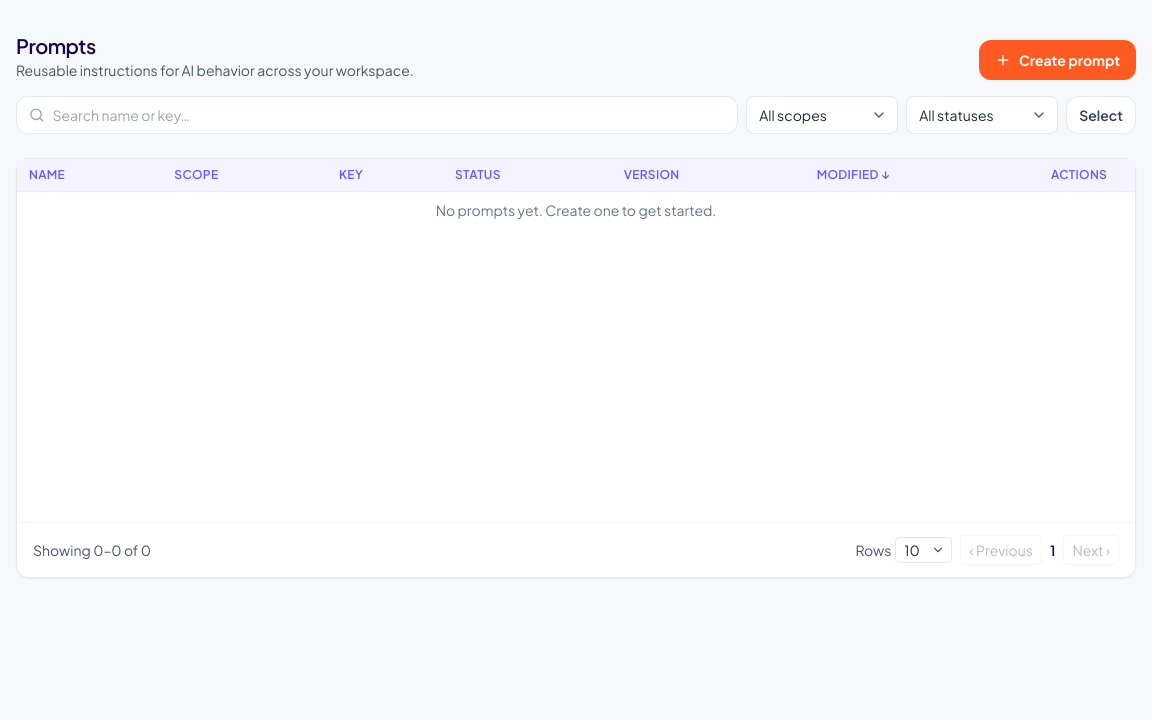
Test: Prompts table-first UX › opens editor drawer on Create prompt
The width and height of the screenshot is (1152, 720).
Check: the text "No prompts yet. Create one to get started." is shown, box [17,192,1135,228]
Click the button "Create prompt": (1057, 60) [979,40,1136,80]
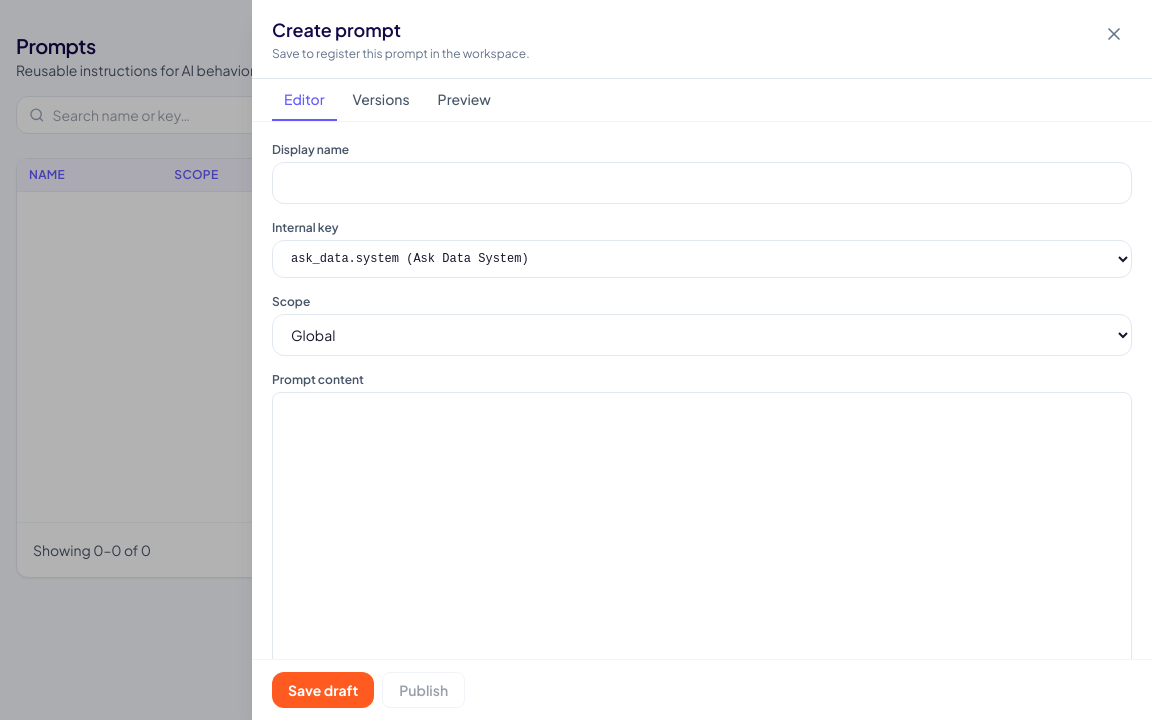
Check: the dialog is shown
Check: the heading "Create prompt" is shown, box [272,18,401,41]
Check: the text "Display name" is shown, box [272,142,349,157]
